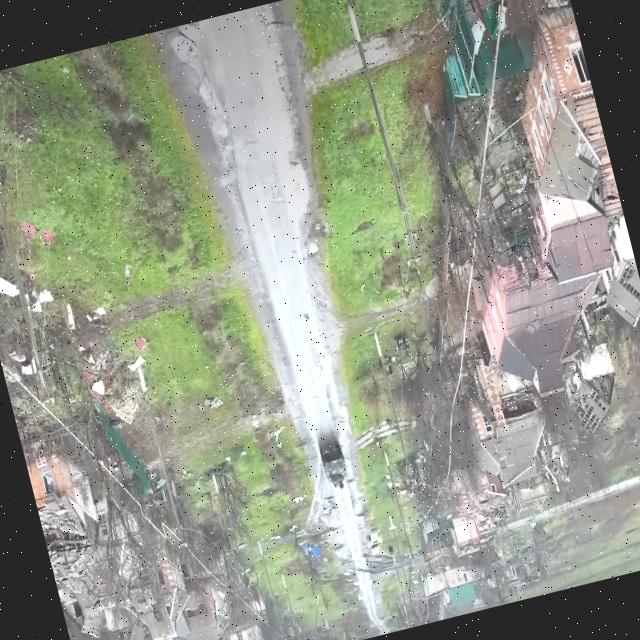AIFV: (319, 441, 353, 494)
Vehicle: (366, 531, 387, 560)
